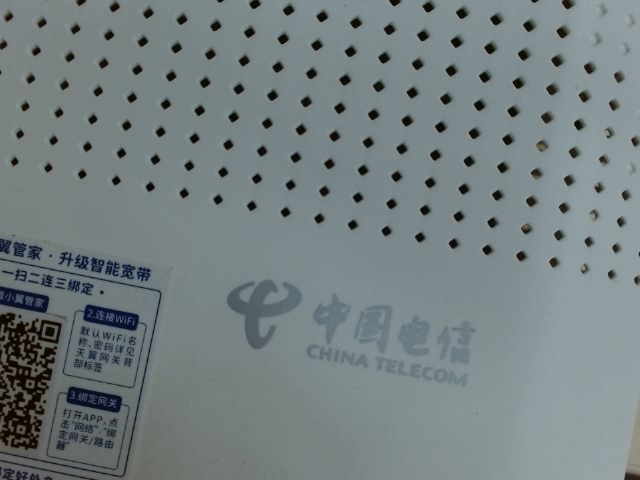AB_ChinaTelecom: (210, 268, 490, 392)
